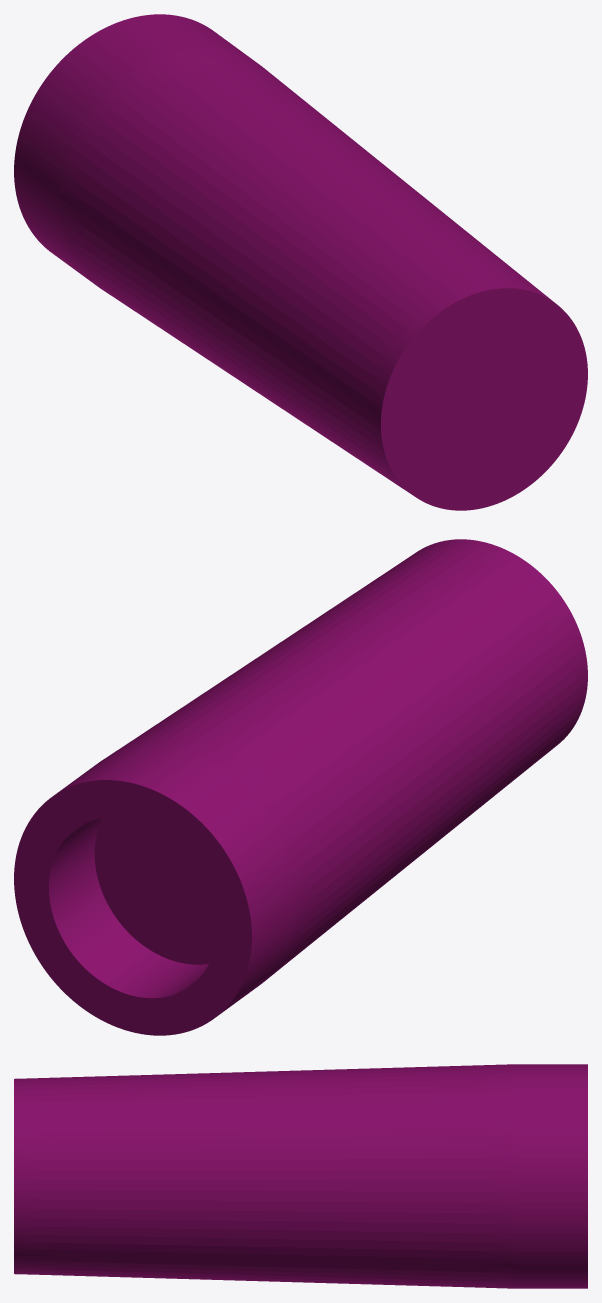
The picture shows the model from 3 angles, top to bottom: view 1: azimuth 30°, elevation 25°; view 2: azimuth 150°, elevation 25°; view 3: azimuth 270°, elevation 25°; orthographic projection. The views are drawn at different scales.
Visible parts, largest first — view 1: node; view 2: node; view 3: node.
Boxes of the visible parts, x1=… form: node: x1=14, y1=14, x2=587, y2=510; node: x1=14, y1=539, x2=587, y2=1035; node: x1=14, y1=1064, x2=587, y2=1288.
Bounding box in the file's own units: 0.0449 × 0.0449 × 0.115.
